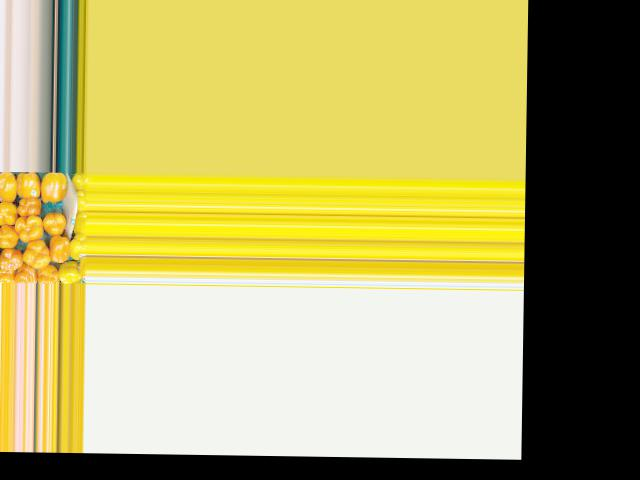bell_pepper: (70, 230, 84, 261)
